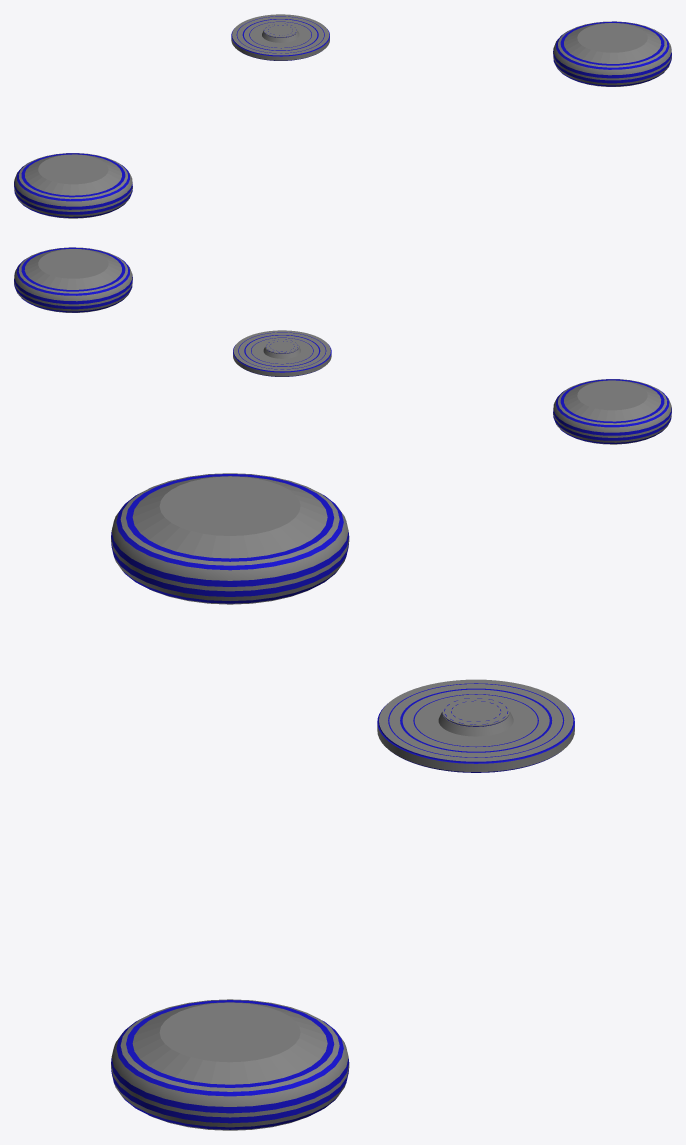
File: DJNew.fbx
3 renders of one model, top to bottom at view 1: azimuth 30°, elevation 25°; view 2: azimuth 150°, elevation 25°; view 3: azimuth 270°, elevation 25°, orthographic. The views are drawn at different scales.
Visible parts, largest first — view 1: Glass004, Glass003, GirlFlotingBase002, Object001, Object002, Glow005, Stage; view 2: Glass004, Glass003, GirlFlotingBase002, Object001, Object002, Glow005, Stage; view 3: Glass003, Glass004, GirlFlotingBase002, Object002, Object001, Glow005, Stage.
Part boxes in pixels (x1=…): Glass004: x1=14, y1=153, x2=132, y2=218; Glass003: x1=553, y1=21, x2=671, y2=86; GirlFlotingBase002: x1=231, y1=14, x2=329, y2=60; Object001: x1=553, y1=21, x2=671, y2=86; Object002: x1=14, y1=153, x2=132, y2=217; Glow005: x1=231, y1=16, x2=329, y2=60; Stage: x1=264, y1=23, x2=297, y2=37; Glass004: x1=553, y1=379, x2=671, y2=444; Glass003: x1=14, y1=247, x2=132, y2=312; GirlFlotingBase002: x1=233, y1=330, x2=331, y2=376; Object001: x1=14, y1=247, x2=132, y2=312; Object002: x1=553, y1=379, x2=671, y2=443; Glow005: x1=233, y1=332, x2=331, y2=376; Stage: x1=265, y1=339, x2=298, y2=353; Glass003: x1=111, y1=999, x2=349, y2=1130; Glass004: x1=111, y1=473, x2=349, y2=604; GirlFlotingBase002: x1=377, y1=679, x2=574, y2=771; Object002: x1=111, y1=474, x2=349, y2=603; Object001: x1=111, y1=1000, x2=349, y2=1129; Glow005: x1=377, y1=683, x2=574, y2=772; Stage: x1=442, y1=697, x2=509, y2=726.
Bounding box in the file's own units: 120 × 9.95 × 37.56.
